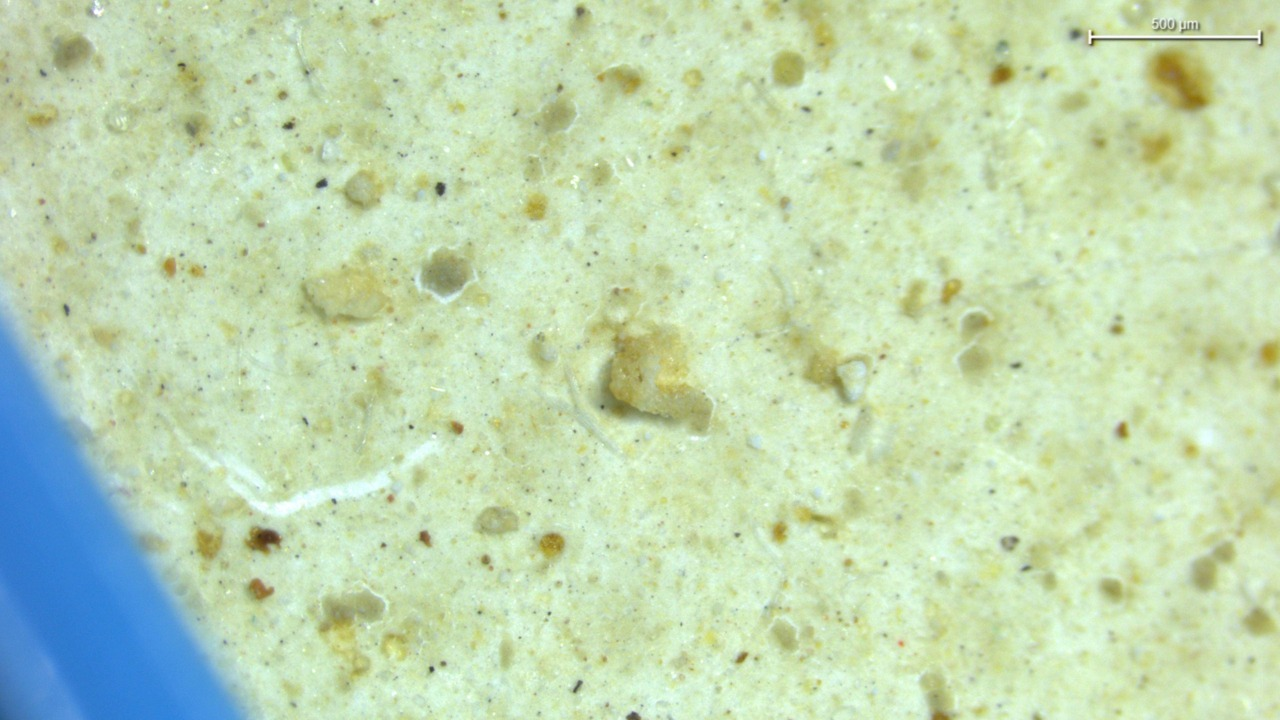microplastic_fragment: (608, 325, 713, 430), (305, 265, 389, 319), (837, 361, 868, 402), (344, 170, 379, 206)
